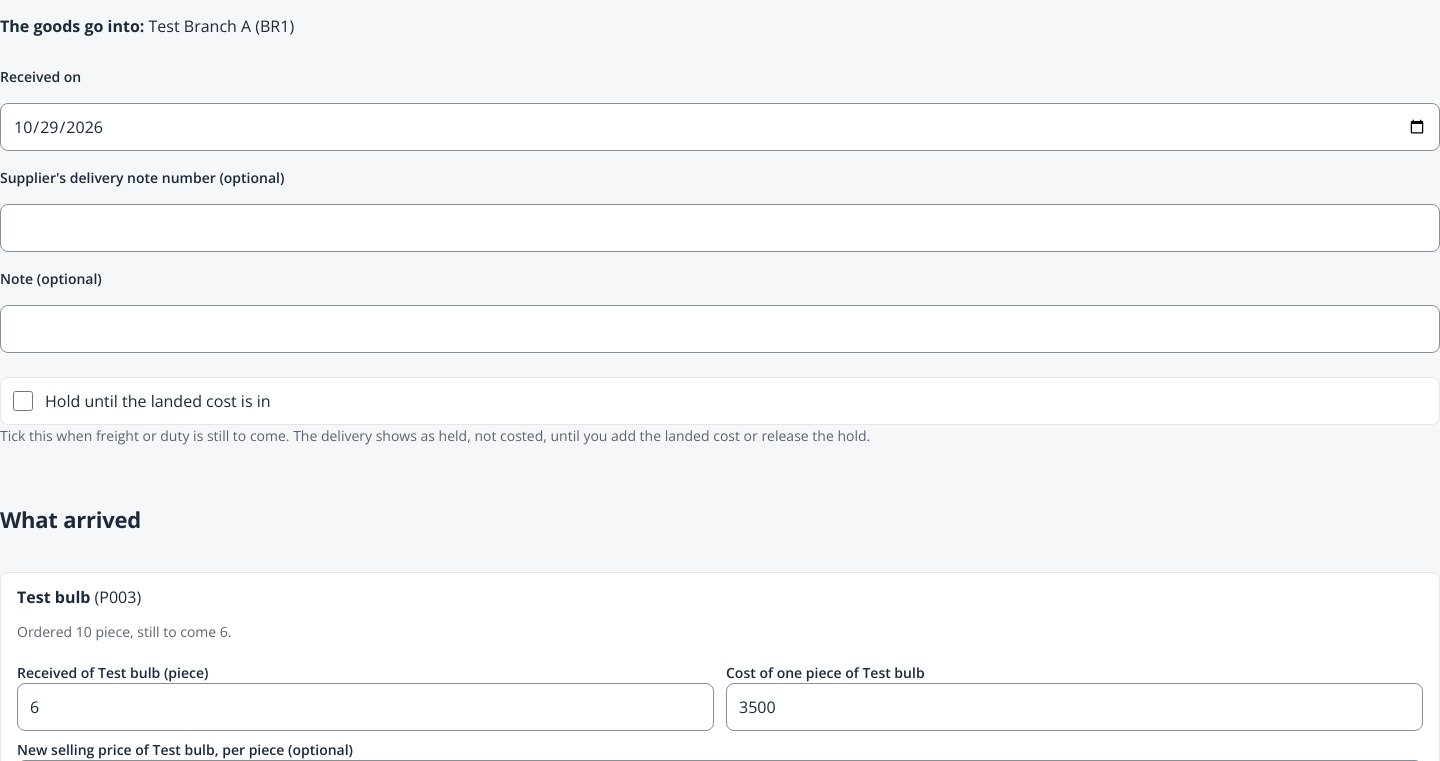
Test: the goods received form › warns about more than was ordered, and shows the server's refusal of an over-receipt in plain words
This screenshot has width=1440, height=761.
Replace the text in the field labelled "Received of Test bulb (piece)" with "7": (366, 707) [17,683,714,731]
(page scrolled)
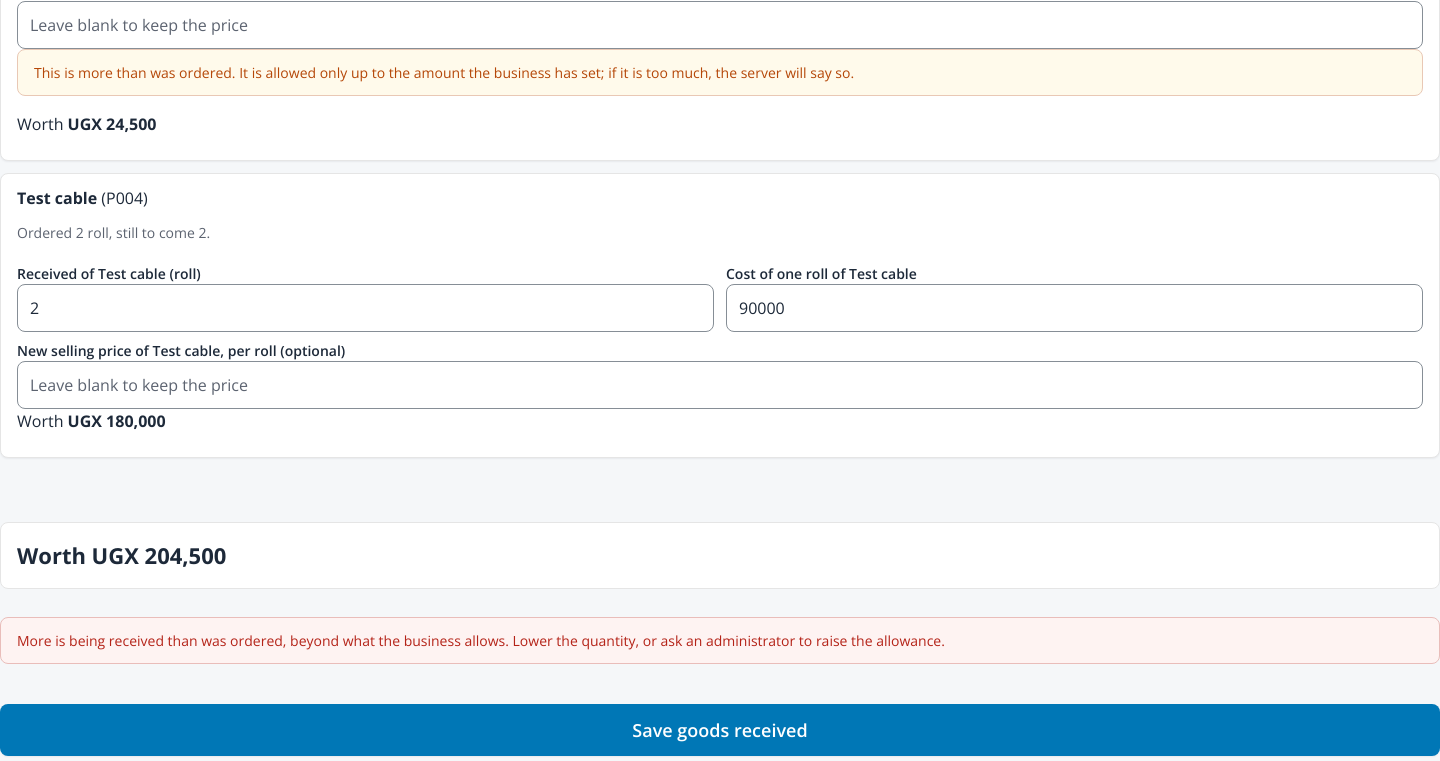
Expected: the message shows "More is being received than was ordered", [17,631,945,650]
Now the text "more than was ordered" is shown, box [34,63,854,82]
